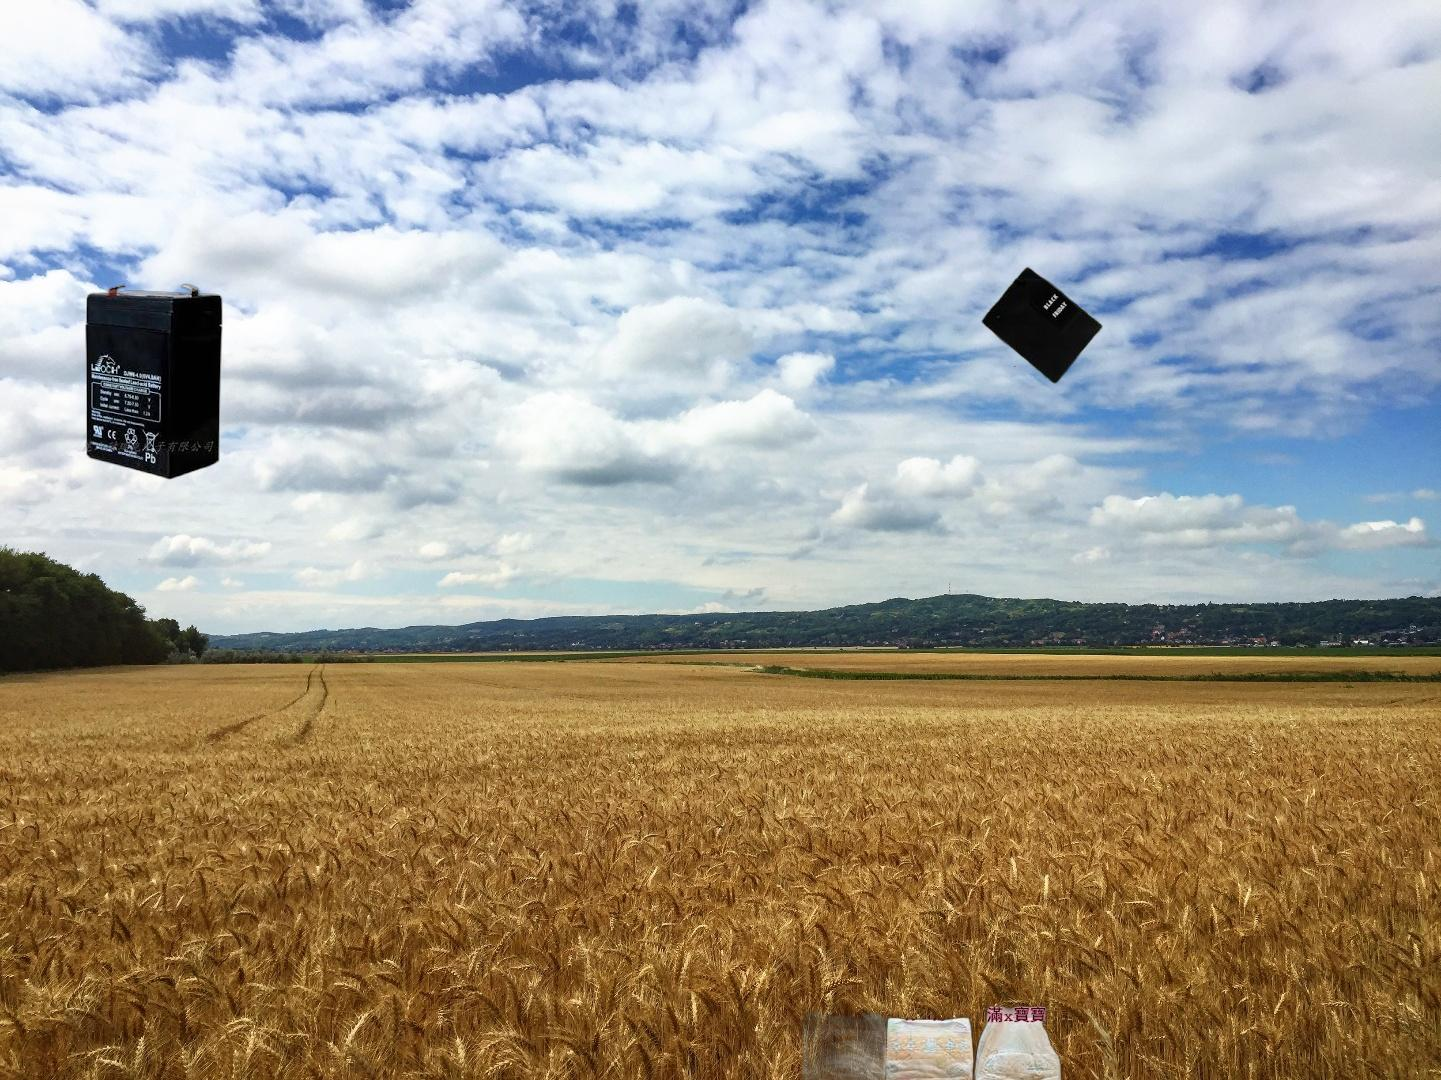battery: (81, 282, 225, 482)
paper-bag: (979, 265, 1104, 386)
plastic-bottles: (84, 289, 192, 390)
trash: (802, 974, 1061, 1080)
